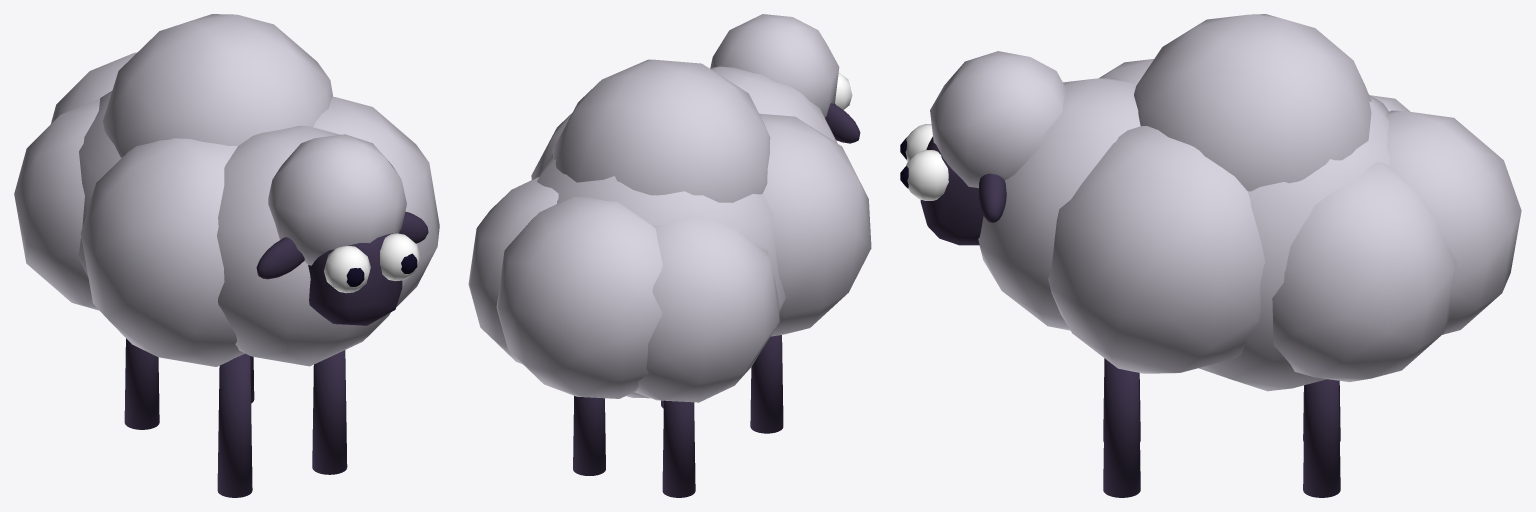
File: b_sheep.glb
3 views of the same model, side by side, from view 1: azimuth 30°, elevation 25°; view 2: azimuth 150°, elevation 25°; view 3: azimuth 270°, elevation 25° (orthographic). The views are drawn at different scales.
Visible parts, largest first — view 1: Sphere; view 2: Sphere; view 3: Sphere.
Boxes of the visible parts, x1,y1,x2,y2 form: Sphere: (14,14,439,497); Sphere: (468,14,871,497); Sphere: (900,14,1521,497).
Bounding box in the file's own units: 1.74 × 2.07 × 2.64.
